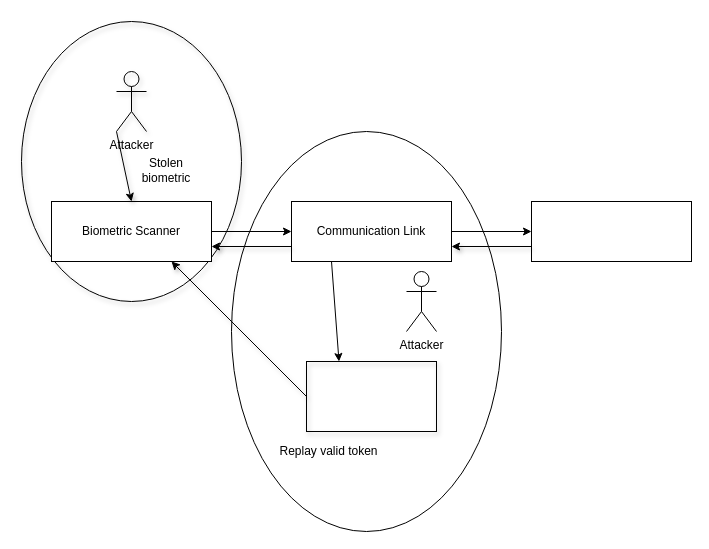
Some shapes in this 709 by 549 pixel diagram are drawn without their labels. The centre of each missing label's shape, as x and y in pixels:
Database Server: point 611,231
Fake server: point 372,397
